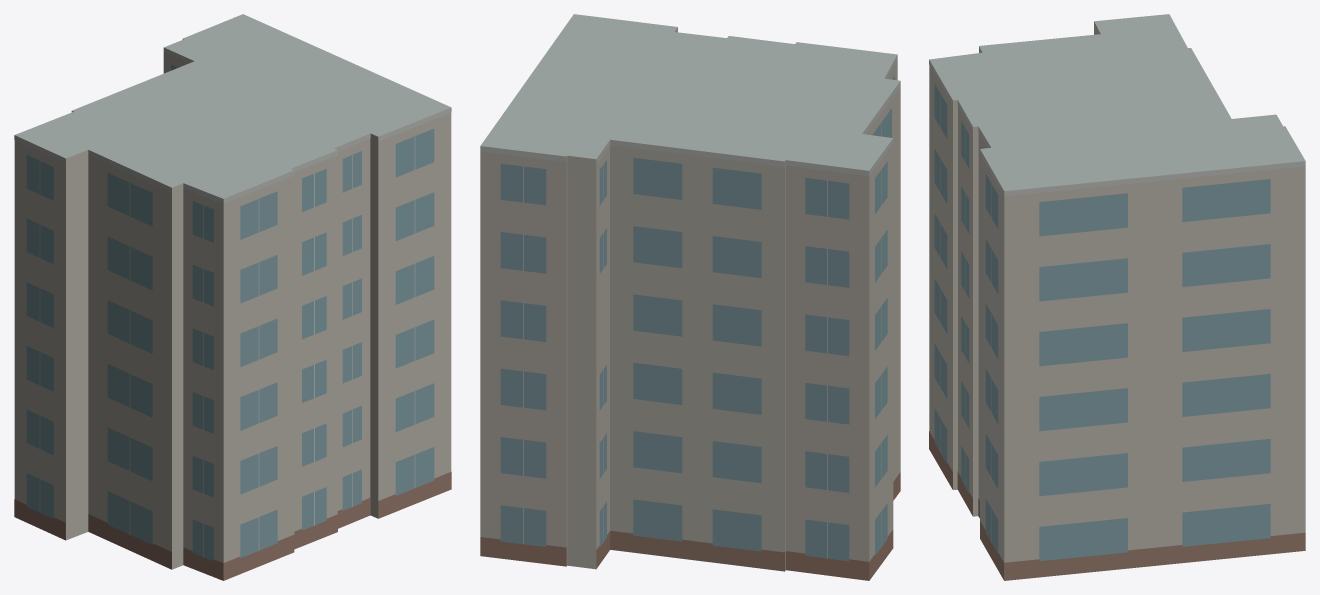
File: survey-upis-32507661.glb
3 views of the same model, side by side, from view 1: azimuth 30°, elevation 25°; view 2: azimuth 150°, elevation 25°; view 3: azimuth 270°, elevation 25° (orthographic). The views are drawn at different scales.
Parts seen in each view (by area): view 1: survey-upis-32507661.tmp; view 2: survey-upis-32507661.tmp; view 3: survey-upis-32507661.tmp.
Part boxes in pixels (left/top/right/bottom): survey-upis-32507661.tmp: left=14, top=14, right=451, bottom=580; survey-upis-32507661.tmp: left=480, top=14, right=900, bottom=580; survey-upis-32507661.tmp: left=929, top=14, right=1305, bottom=580.
Bounding box in the file's own units: 18.16 × 18.6 × 16.3.
